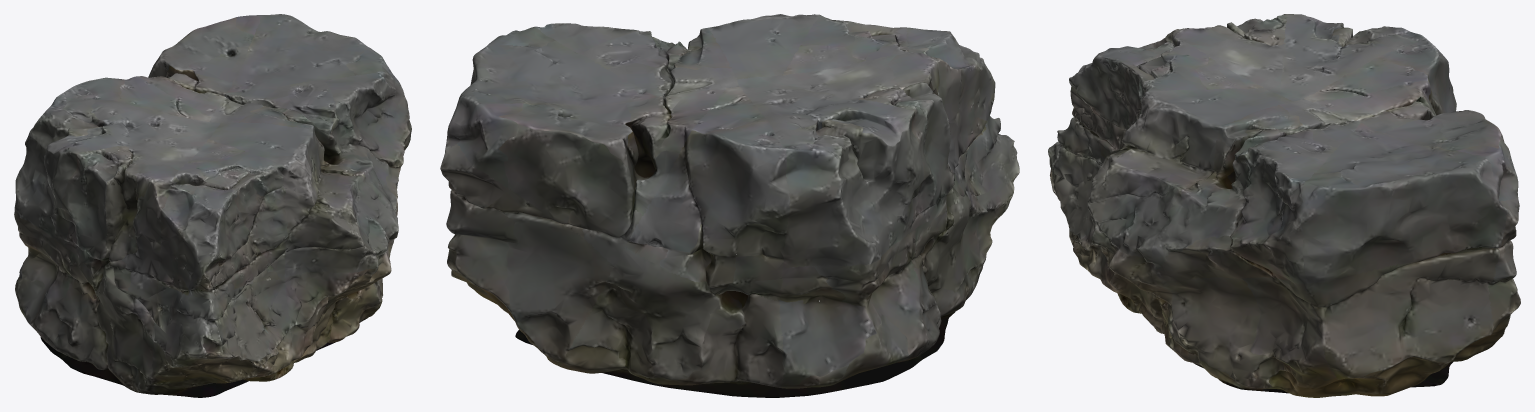
Rendered from JiaShanShi_16.glb.
The picture shows the model from 3 angles, left to right: view 1: azimuth 30°, elevation 25°; view 2: azimuth 150°, elevation 25°; view 3: azimuth 270°, elevation 25°; orthographic projection. The views are drawn at different scales.
Visible parts, largest first — view 1: tripo_node_7a497a79-cf71-446c-81e6-ec829fcfd91a; view 2: tripo_node_7a497a79-cf71-446c-81e6-ec829fcfd91a; view 3: tripo_node_7a497a79-cf71-446c-81e6-ec829fcfd91a.
Part boxes in pixels (x1,y1,x2,y2): tripo_node_7a497a79-cf71-446c-81e6-ec829fcfd91a: (14,14,411,397); tripo_node_7a497a79-cf71-446c-81e6-ec829fcfd91a: (440,14,1019,397); tripo_node_7a497a79-cf71-446c-81e6-ec829fcfd91a: (1048,14,1520,397).
Size of the model in its own units: 0.9619 by 0.531 by 0.9781.
1 material, 1 textured.
